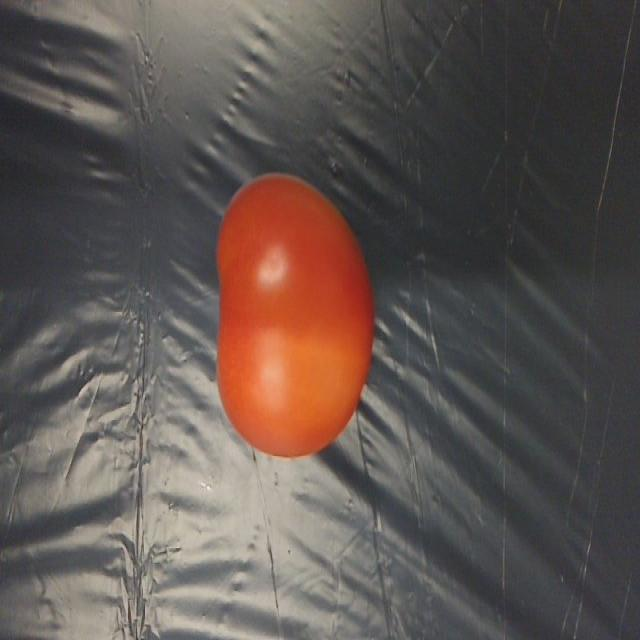sari: (204, 170, 390, 464)
